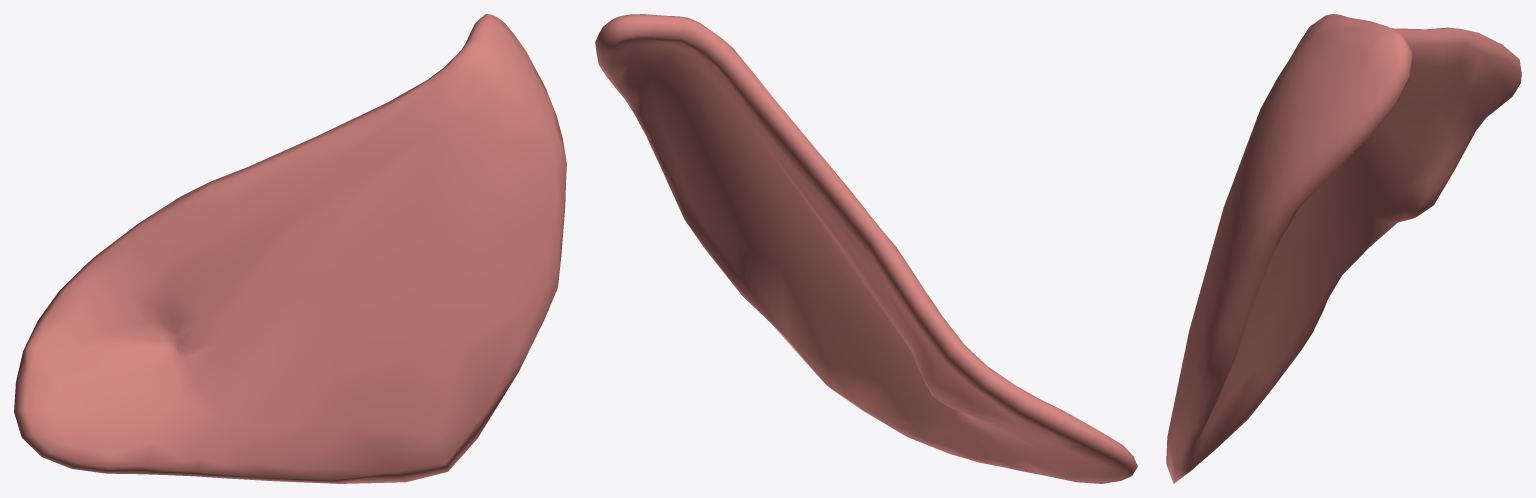
3 views of the same model, side by side, from view 1: azimuth 30°, elevation 25°; view 2: azimuth 150°, elevation 25°; view 3: azimuth 270°, elevation 25° (orthographic). The views are drawn at different scales.
Parts seen in each view (by area): view 1: ZA_f373c9b94ad06689; view 2: ZA_f373c9b94ad06689; view 3: ZA_f373c9b94ad06689.
Part boxes in pixels (left/top/right/bottom): ZA_f373c9b94ad06689: left=14, top=14, right=566, bottom=483; ZA_f373c9b94ad06689: left=595, top=14, right=1137, bottom=483; ZA_f373c9b94ad06689: left=1166, top=14, right=1521, bottom=483.
Size of the model in its own units: 0.0113 by 0.00807 by 0.0048.
